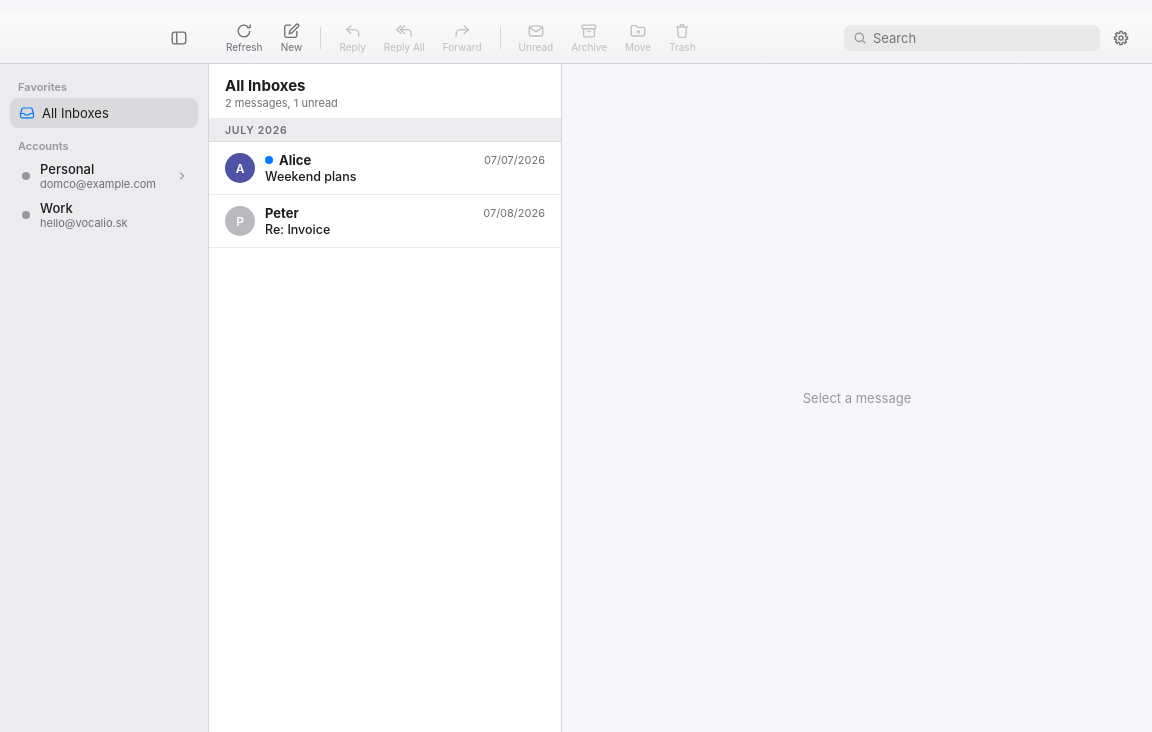
Test case: expands an account and opens one of its folders
Expected: the text "Weekend plans" is shown, [265,169,356,184]
Click the button named "Toggle folders for Personal": click(182, 176) [172,166,192,186]
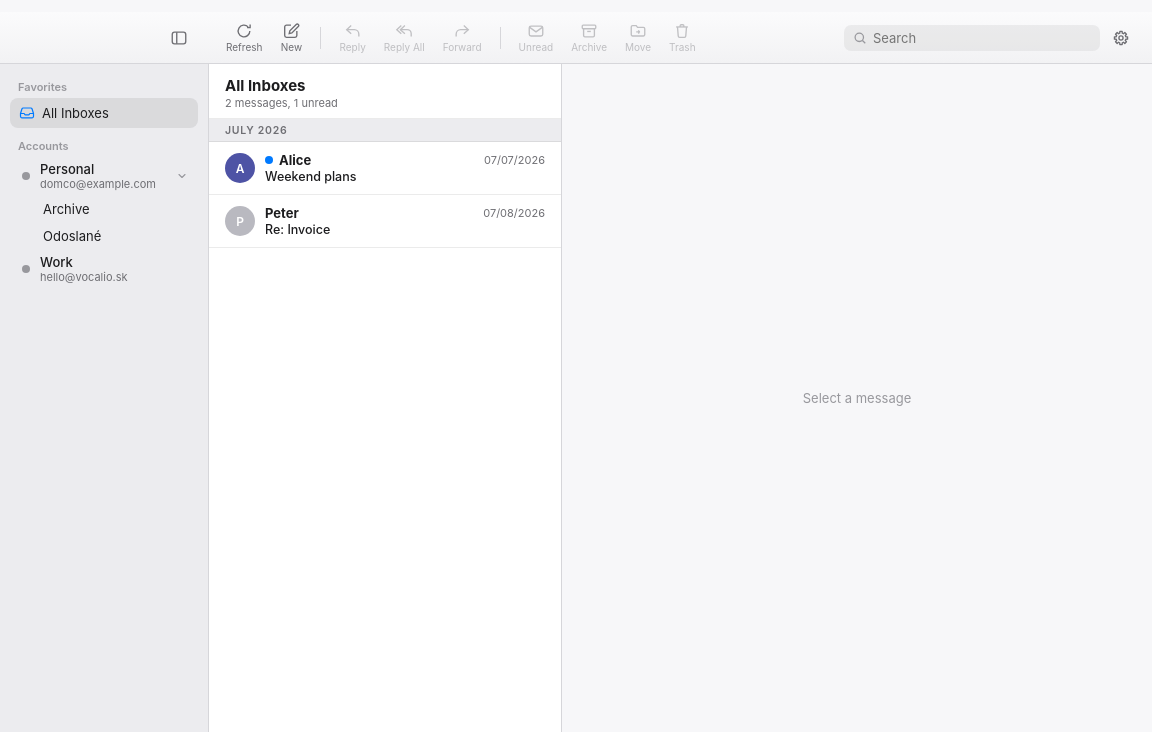
Click the button "Archive" below "Accounts": click(116, 209) [34,196,198,222]
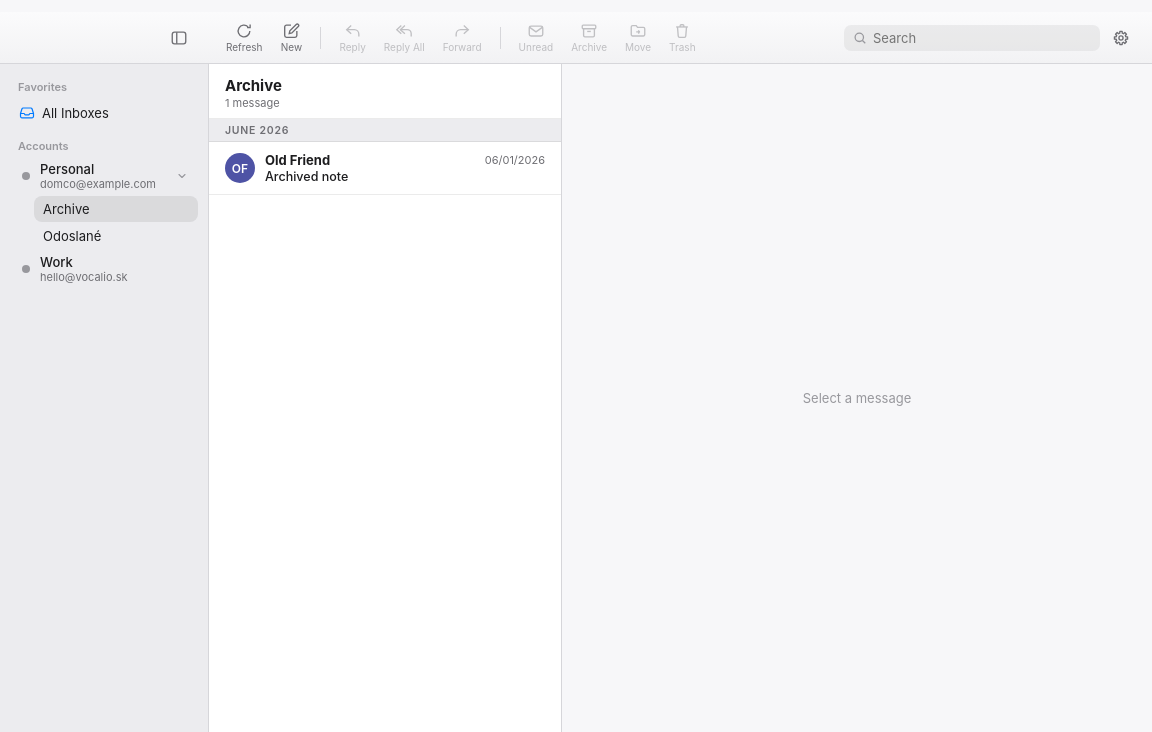
Now the text "Archived note" is shown, box [265,169,348,184]
Now the heading "Archive" is shown, box [225,76,282,95]
Now the option "Weekend plans" is gone
